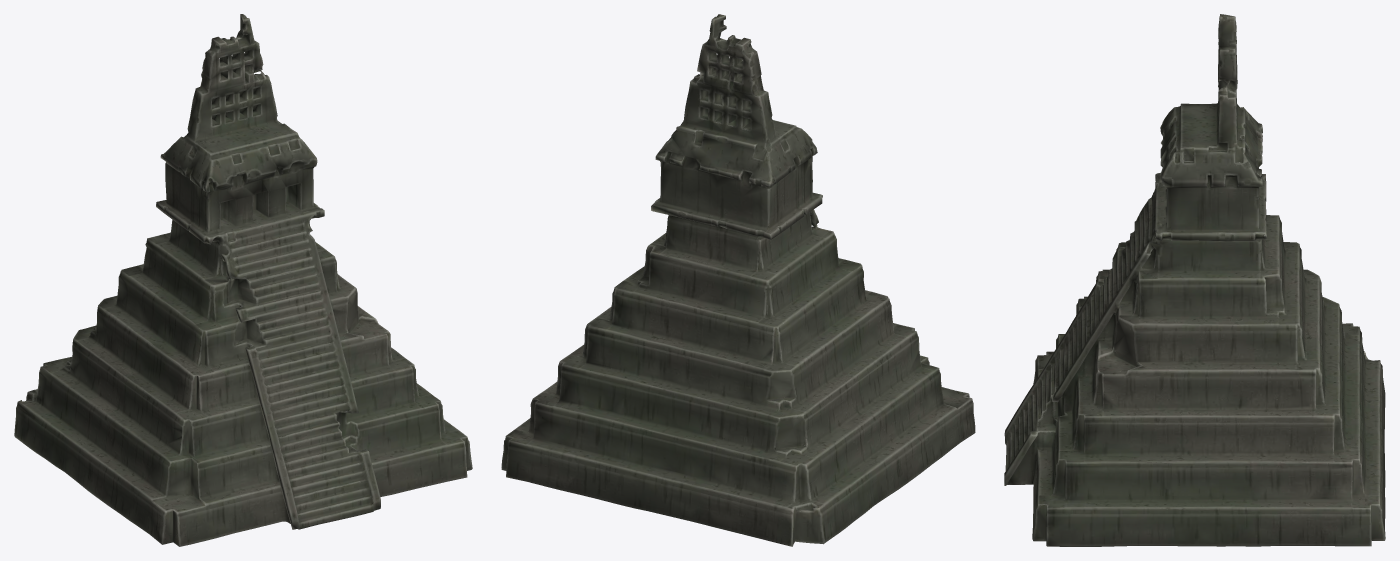
The model's file is temple0-limestone.glb.
3 views of the same model, side by side, from view 1: azimuth 30°, elevation 25°; view 2: azimuth 150°, elevation 25°; view 3: azimuth 270°, elevation 25° (orthographic). The views are drawn at different scales.
Visible parts, largest first — view 1: maya_temple0; view 2: maya_temple0; view 3: maya_temple0.
Part boxes in pixels (x1=…): maya_temple0: x1=14, y1=14, x2=472, y2=546; maya_temple0: x1=501, y1=14, x2=975, y2=546; maya_temple0: x1=1004, y1=14, x2=1385, y2=546.
Bounding box in the file's own units: 1 × 1.31 × 0.9949.
Materials: 1 (1 with a texture image).
